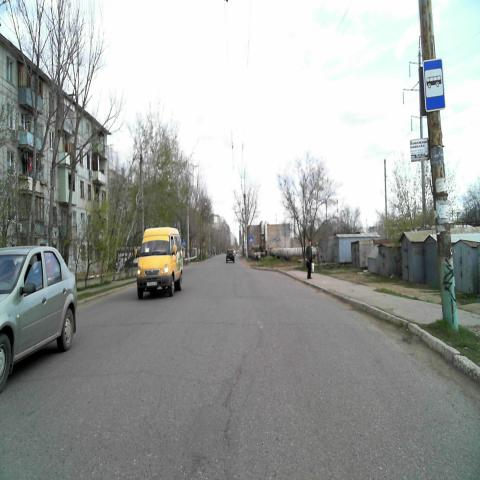5_16: (423, 59, 445, 111)
